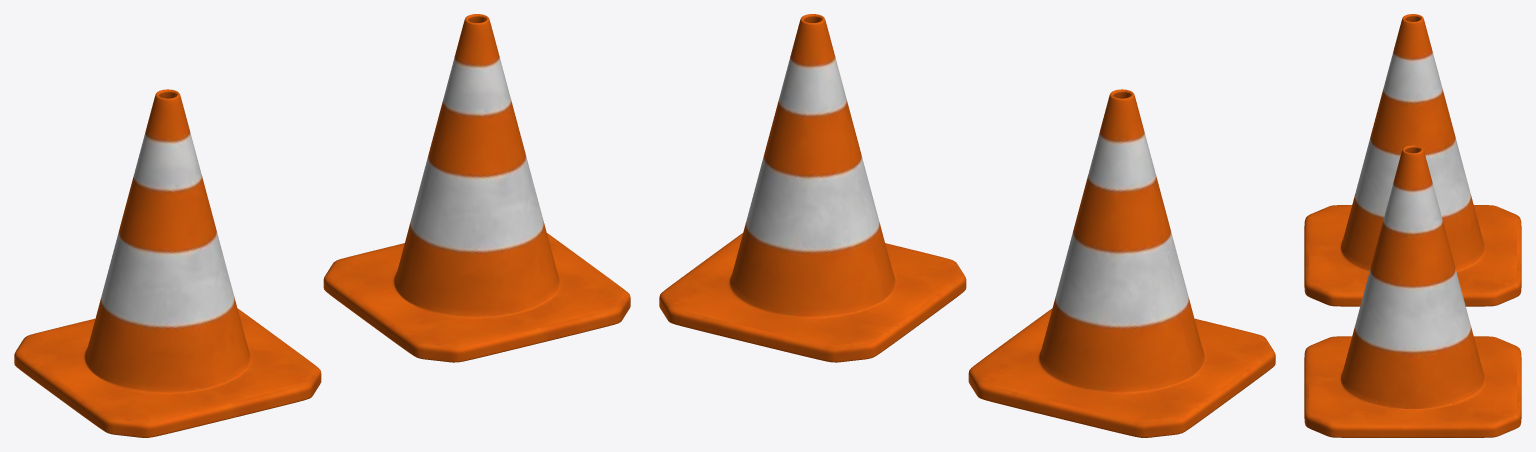
The model's file is traffic_cone.glb.
The picture shows the model from 3 angles, left to right: view 1: azimuth 30°, elevation 25°; view 2: azimuth 150°, elevation 25°; view 3: azimuth 270°, elevation 25°; orthographic projection. The views are drawn at different scales.
Visible parts, largest first — view 1: Cone Normal, Cone Retroreflection; view 2: Cone Normal, Cone Retroreflection; view 3: Cone Normal, Cone Retroreflection.
Boxes of the visible parts, <box> form: Cone Normal: <box>323,14,630,362</box>; Cone Retroreflection: <box>14,89,321,437</box>; Cone Normal: <box>659,14,966,362</box>; Cone Retroreflection: <box>968,89,1275,437</box>; Cone Normal: <box>1304,145,1521,437</box>; Cone Retroreflection: <box>1304,14,1521,306</box>.
Size of the model in its own units: 1.02 by 0.5188 by 0.42.
Materials: 1 (1 with a texture image).
